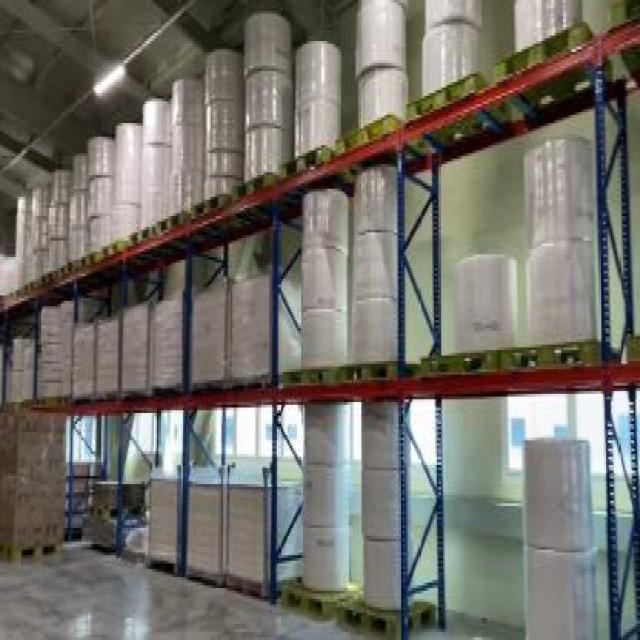white_roll: (146, 468, 314, 602), (508, 421, 609, 637), (354, 394, 431, 632), (522, 128, 602, 356), (349, 164, 414, 383), (297, 394, 354, 637), (0, 396, 68, 569), (289, 183, 346, 383), (344, 2, 410, 140), (242, 3, 292, 183), (440, 249, 511, 375), (189, 282, 271, 388), (5, 296, 77, 408), (12, 167, 70, 290), (419, 3, 486, 104), (197, 46, 240, 202), (119, 293, 183, 397), (294, 44, 341, 161), (498, 0, 596, 55), (171, 74, 206, 210), (140, 101, 175, 224), (71, 314, 118, 396), (83, 136, 115, 252), (117, 115, 140, 238), (68, 153, 90, 260)
